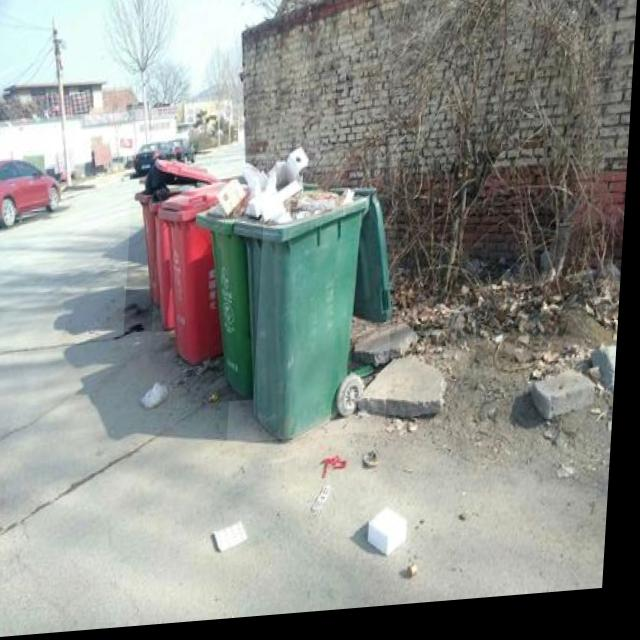garbage_bin: (154, 184, 235, 368)
overflow: (232, 151, 404, 448), (190, 164, 270, 408), (128, 155, 215, 336)
